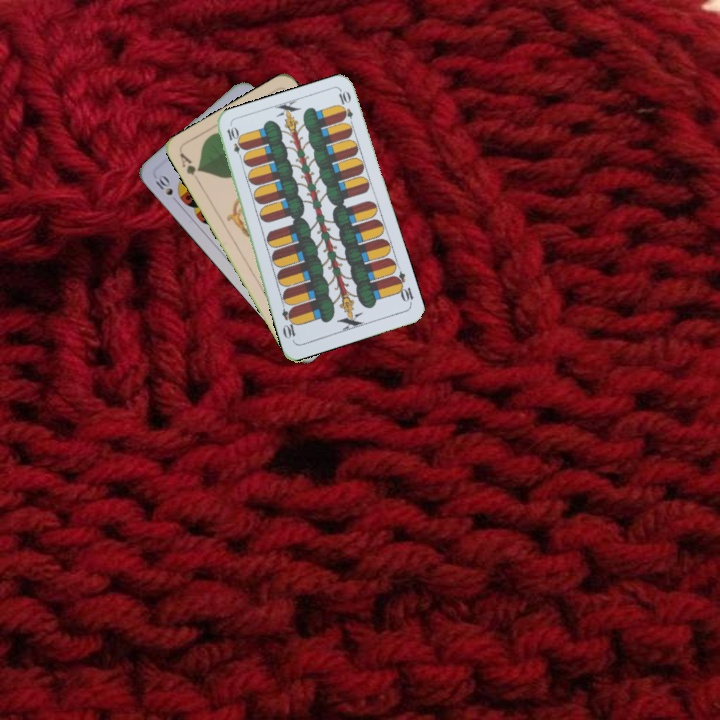E10: (389, 268, 416, 307), (223, 123, 246, 163)
GA: (176, 148, 203, 186)
S10: (150, 170, 176, 198)
